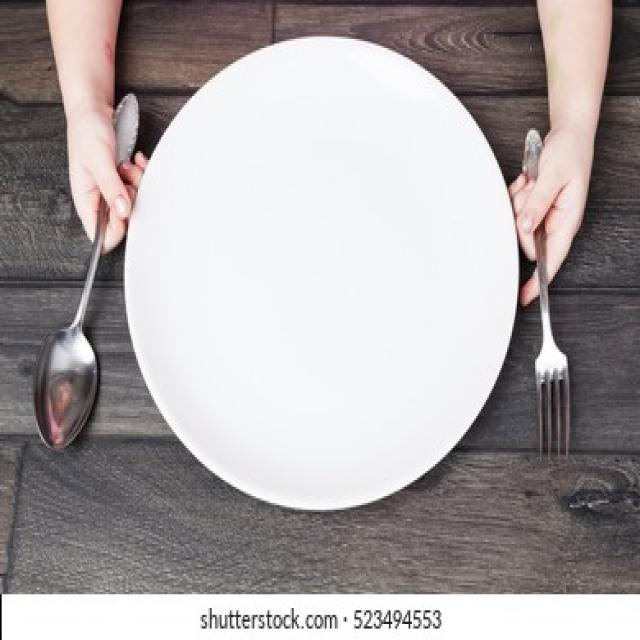fork: (524, 127, 570, 463)
